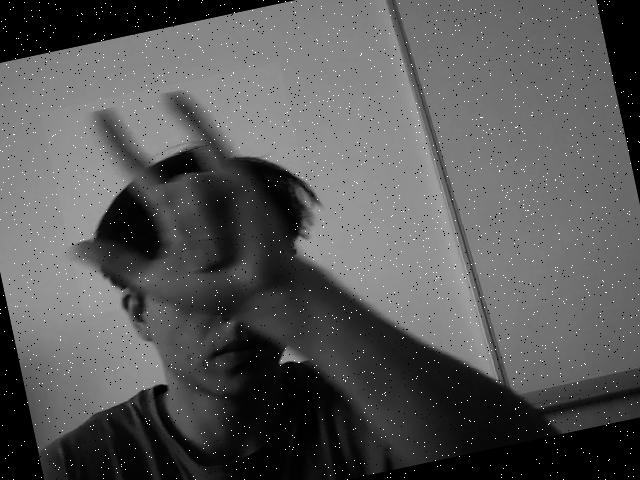I_Love_You: (40, 61, 322, 316)
